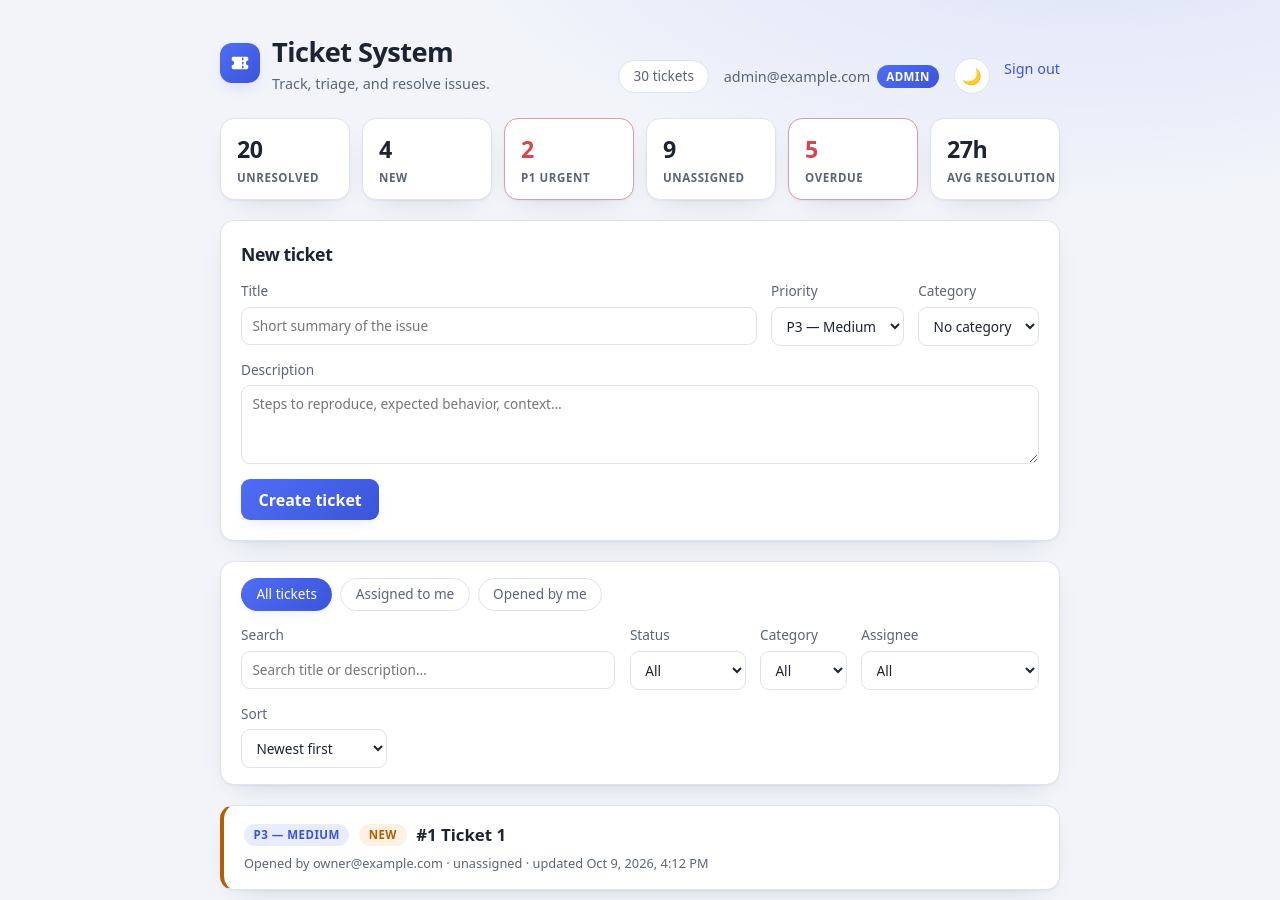
Test: scope and navigation › opens a ticket through the URL hash
Expected: the heading "#1 Ticket 1" is shown, [416,822,506,847]
What coordinates should you click on to do the following:
click the button "#1 Ticket 1"
I would click on:
 (297, 835)
Its box is [224,806,1059,889].
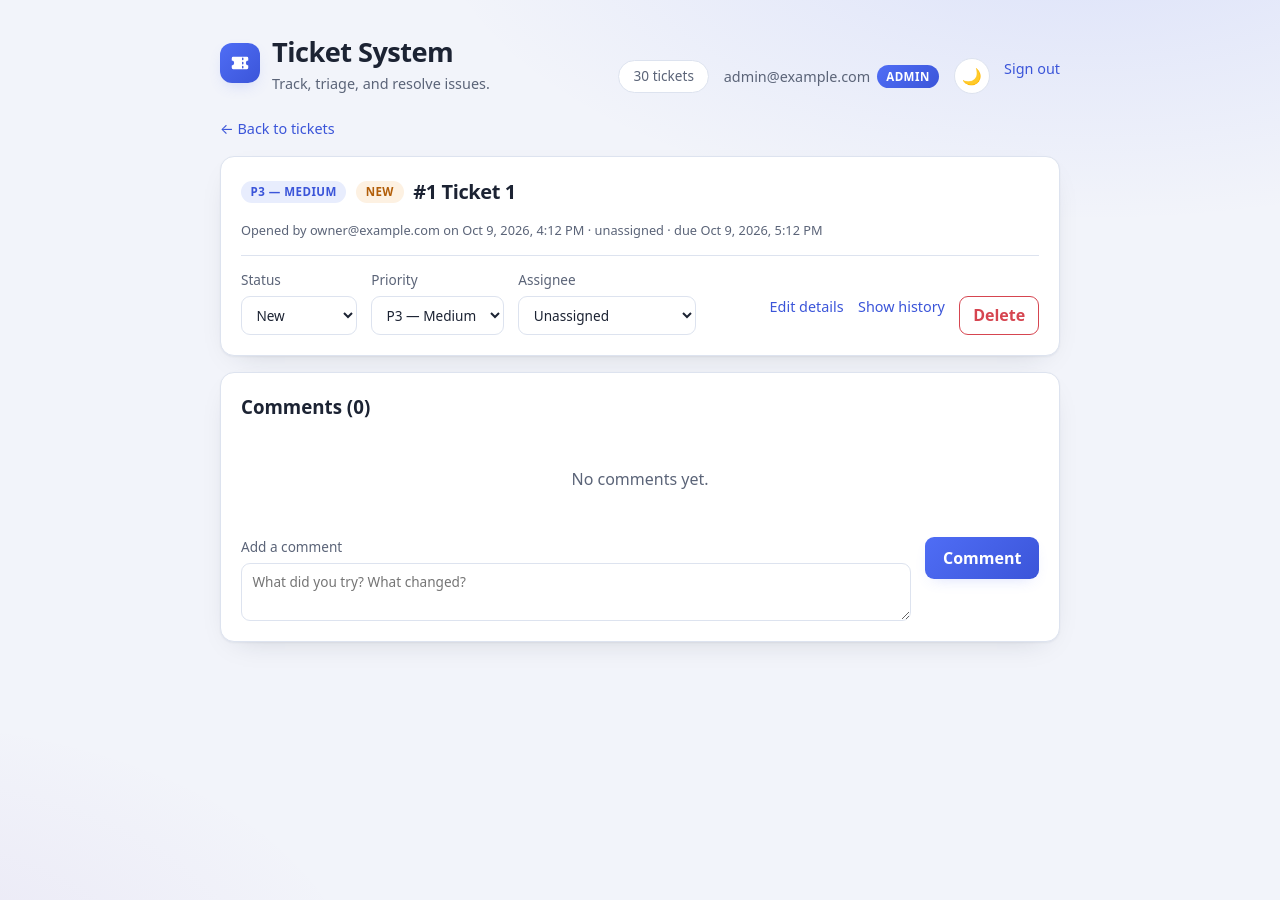
Now the heading "#1 Ticket 1" is shown, box [413,177,516,207]
